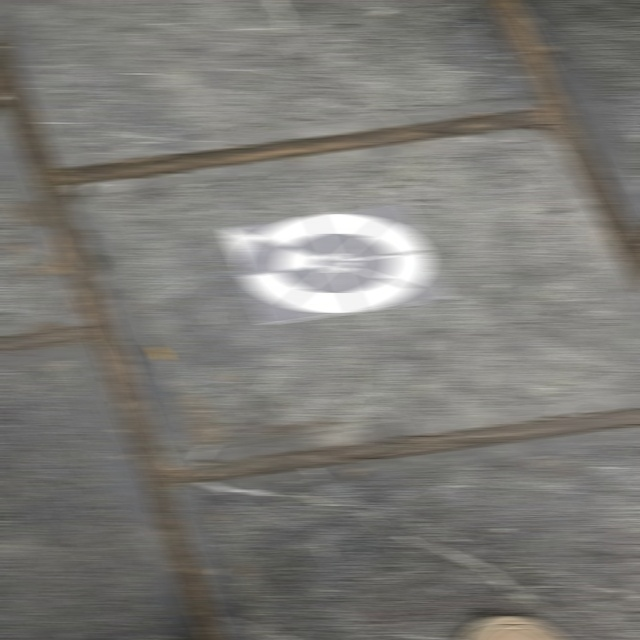landing-zone: (212, 206, 452, 327)
